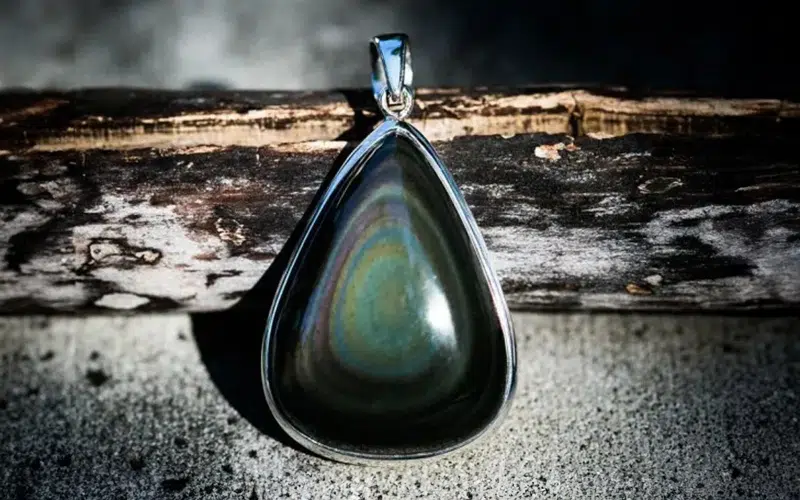Obsidian: (268, 147, 503, 439)
